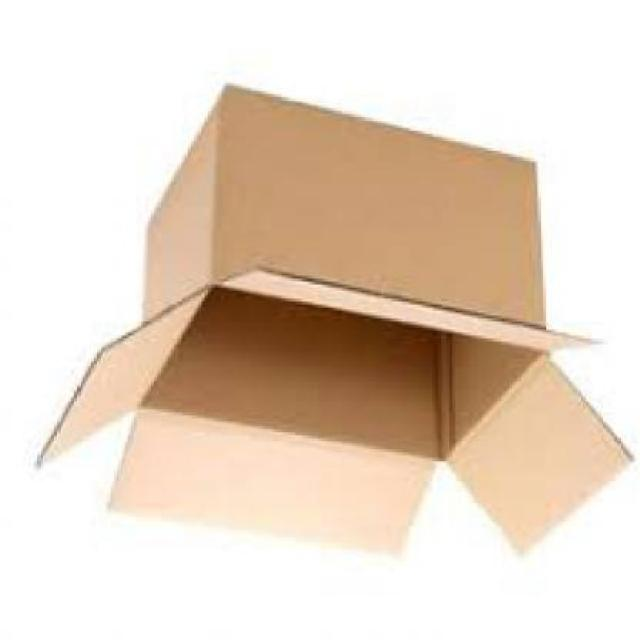CARDBOARD: (26, 94, 632, 563)
